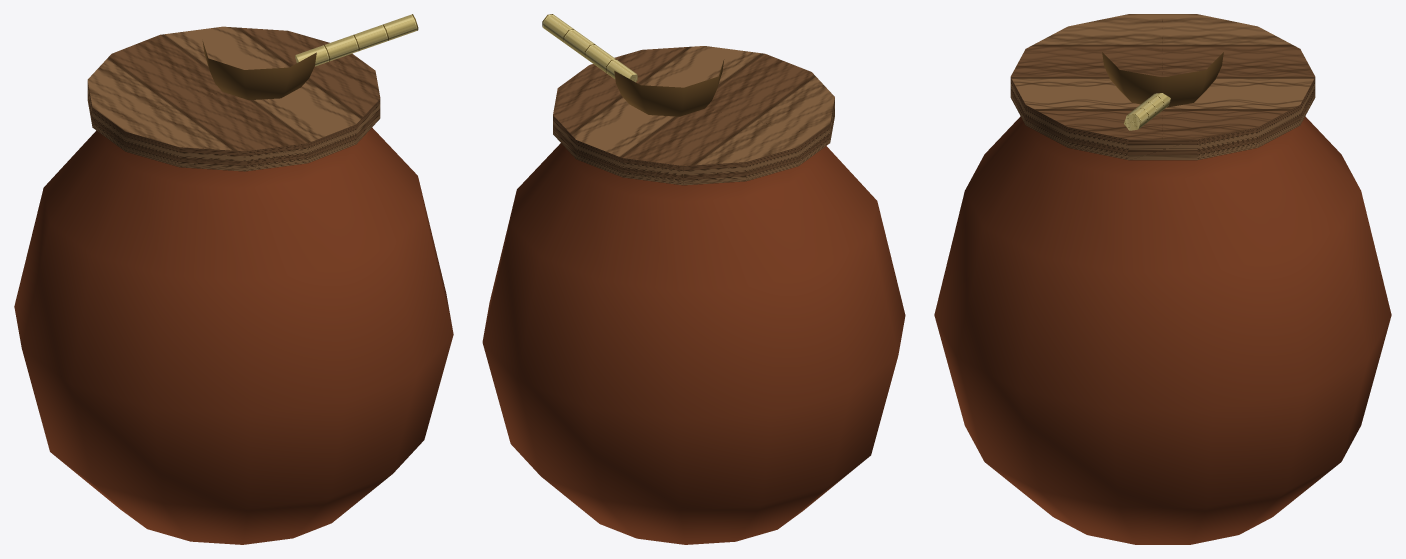
File: lu_nuoc.glb
The picture shows the model from 3 angles, left to right: view 1: azimuth 30°, elevation 25°; view 2: azimuth 150°, elevation 25°; view 3: azimuth 270°, elevation 25°; orthographic projection. The views are drawn at different scales.
Parts seen in each view (by area): view 1: lu_nuoc; view 2: lu_nuoc; view 3: lu_nuoc.
Part boxes in pixels (x1,y1,x2,y2): lu_nuoc: (14,14,453,544); lu_nuoc: (482,14,905,544); lu_nuoc: (934,14,1391,544).
Bounding box in the file's own units: 0.2925 × 0.3356 × 0.3.
Materials: 4 (2 with a texture image).
